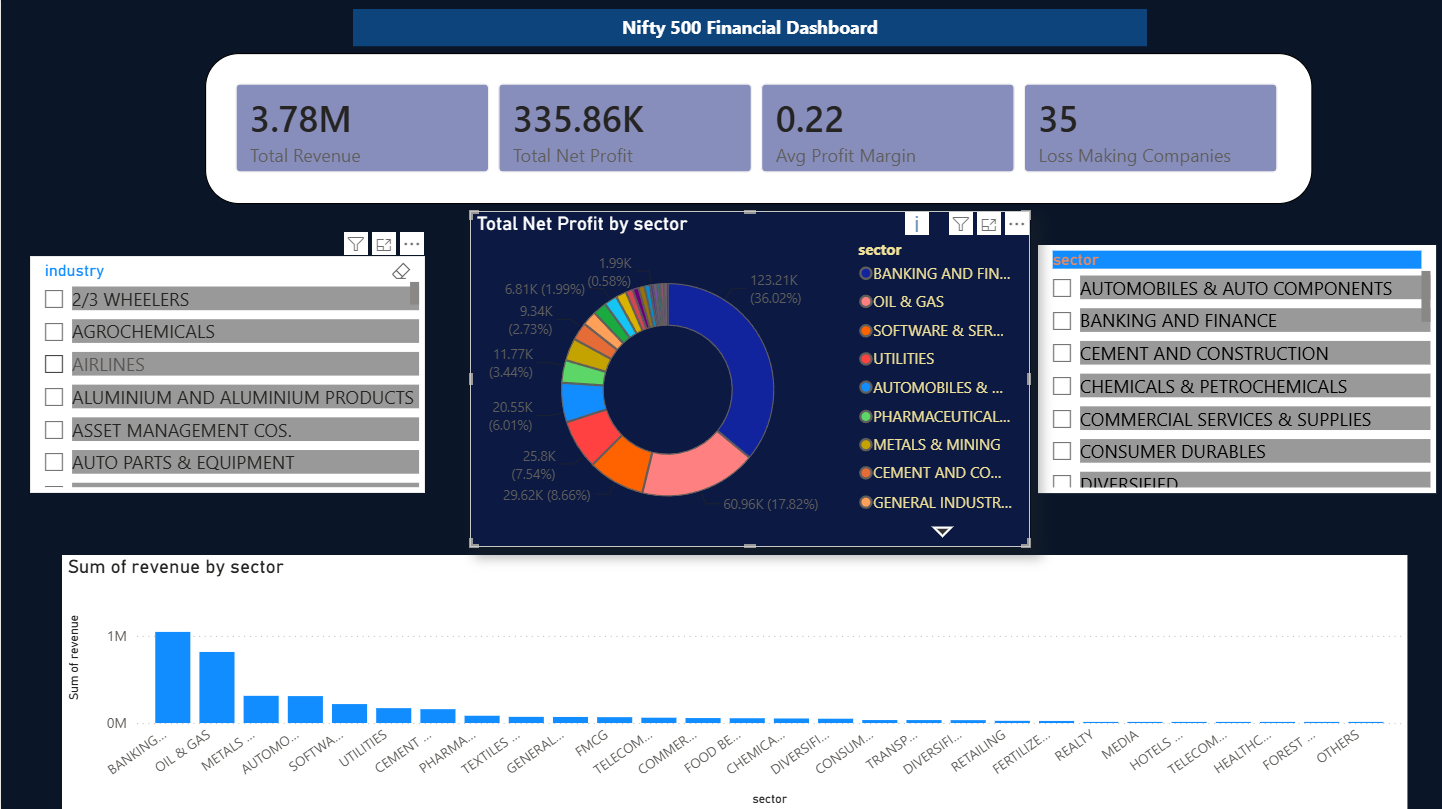

This screenshot's page, from the dashboard's own definition file:
{"tool":"powerbi","page":{"name":"Page 1","canvas":[1280,720],"ordinal":0},"visuals":[{"type":"cardVisual","fields":{"Data":["nifty_500_quarterly_results.Total Revenue","nifty_500_quarterly_results.Total Net Profit","nifty_500_quarterly_results.Avg Profit Margin","nifty_500_quarterly_results.Loss Making Companies"]},"box":[180.9,47.9,981.6,133.9],"z":0},{"type":"columnChart","fields":{"Category":["nifty_500_quarterly_results.sector"],"Y":["Sum(nifty_500_quarterly_results.revenue)"]},"box":[54.1,493,1192.6,227],"z":1000},{"type":"donutChart","fields":{"Category":["nifty_500_quarterly_results.sector"],"Y":["nifty_500_quarterly_results.Total Net Profit"]},"box":[415.9,188,496.6,297.9],"z":2000},{"type":"slicer","fields":{"Values":["nifty_500_quarterly_results.sector"]},"box":[919.5,218.1,352.9,219.9],"z":3000},{"type":"slicer","fields":{"Values":["nifty_500_quarterly_results.industry"]},"box":[25.7,227.9,350.2,210.1],"z":4000},{"type":"textbox","box":[312.1,8.9,704,32.8],"z":5000}]}

Visuals, with their boxes in screenshot pixels (x1, y1, x2, y2), scaled from the page's 1280x720 canvas onto the 1442x809 screenshot:
cardVisual - nifty_500_quarterly_results.Total Revenue x nifty_500_quarterly_results.Total Net Profit: l=204, t=54, r=1310, b=204
columnChart - nifty_500_quarterly_results.sector x Sum(nifty_500_quarterly_results.revenue): l=61, t=554, r=1404, b=808
donutChart - nifty_500_quarterly_results.sector x nifty_500_quarterly_results.Total Net Profit: l=469, t=211, r=1028, b=546
slicer - nifty_500_quarterly_results.sector: l=1036, t=245, r=1433, b=492
slicer - nifty_500_quarterly_results.industry: l=29, t=256, r=423, b=492
textbox: l=352, t=10, r=1145, b=47
